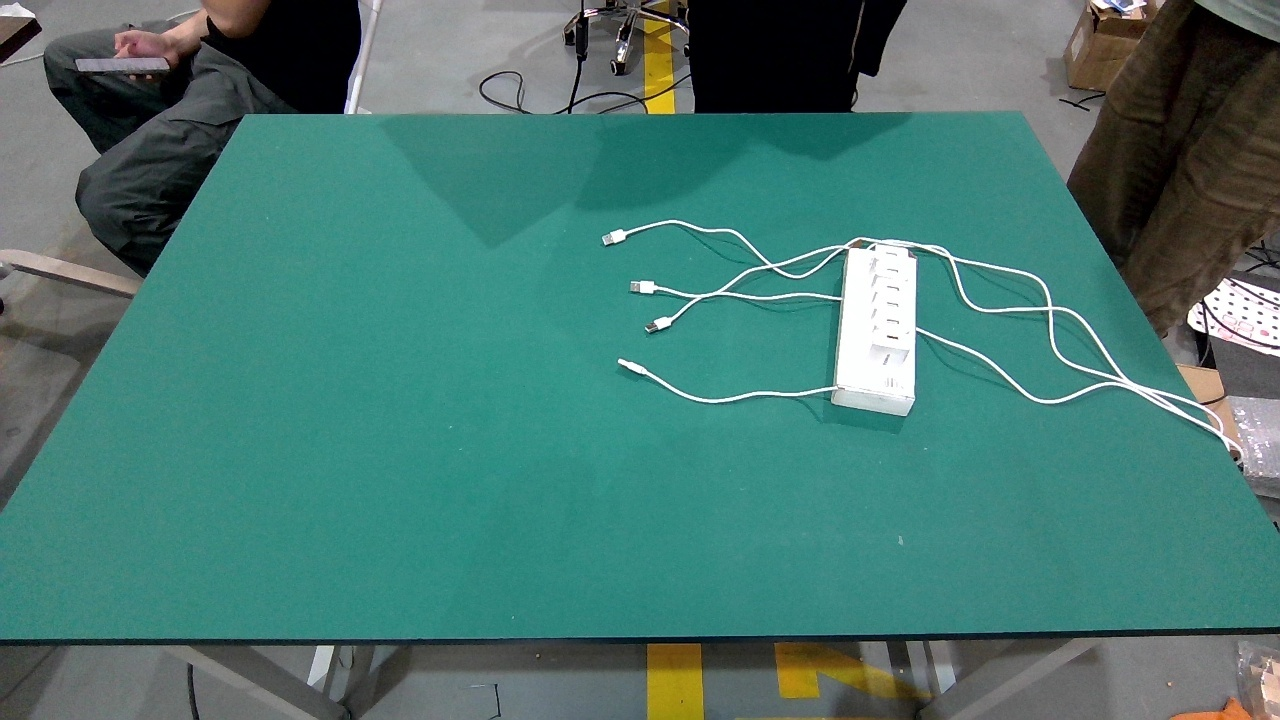usb_a_plug: (643, 311, 681, 336), (616, 357, 653, 379), (601, 225, 635, 247), (630, 280, 662, 295)
